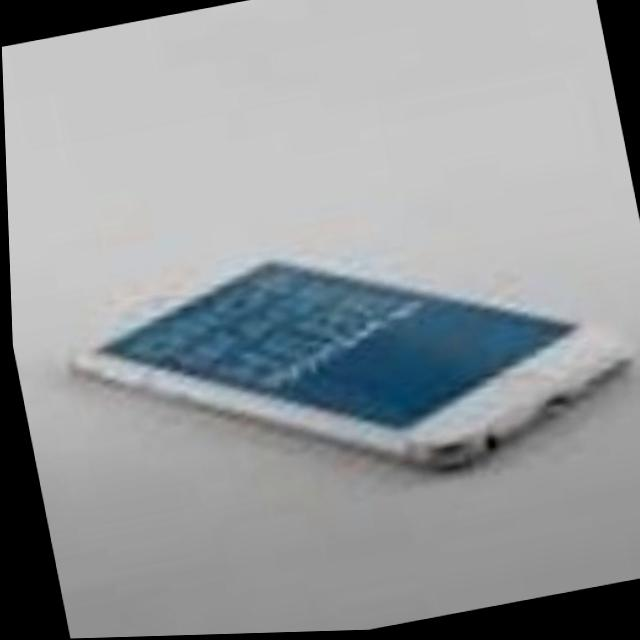Smartphone: (20, 155, 640, 552)
